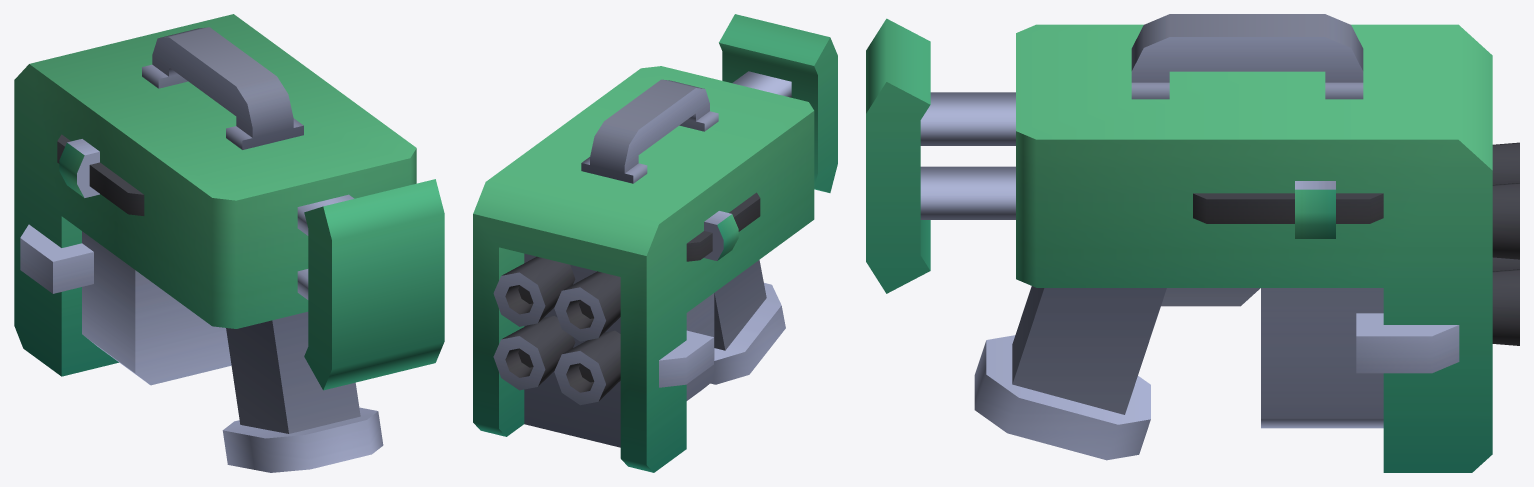
File: kenney-blaster-blaster-o.glb
The picture shows the model from 3 angles, left to right: view 1: azimuth 30°, elevation 25°; view 2: azimuth 150°, elevation 25°; view 3: azimuth 270°, elevation 25°; orthographic projection. The views are drawn at different scales.
Parts seen in each view (by area): view 1: blaster-o; view 2: blaster-o; view 3: blaster-o.
Part boxes in pixels (x1,y1,x2,y2): blaster-o: (14,14,444,472); blaster-o: (473,14,837,472); blaster-o: (866,14,1519,472).
Bounding box in the file's own units: 0.245 × 0.3338 × 0.48.
Materials: 1 (1 with a texture image).
